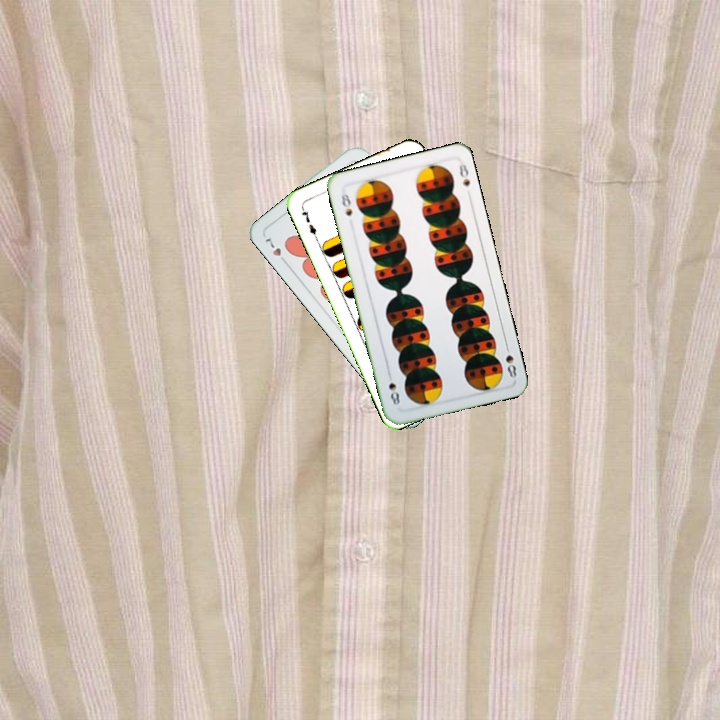E7: (297, 203, 320, 242)
H7: (260, 234, 290, 267)
S8: (501, 340, 519, 381), (337, 190, 355, 219)
